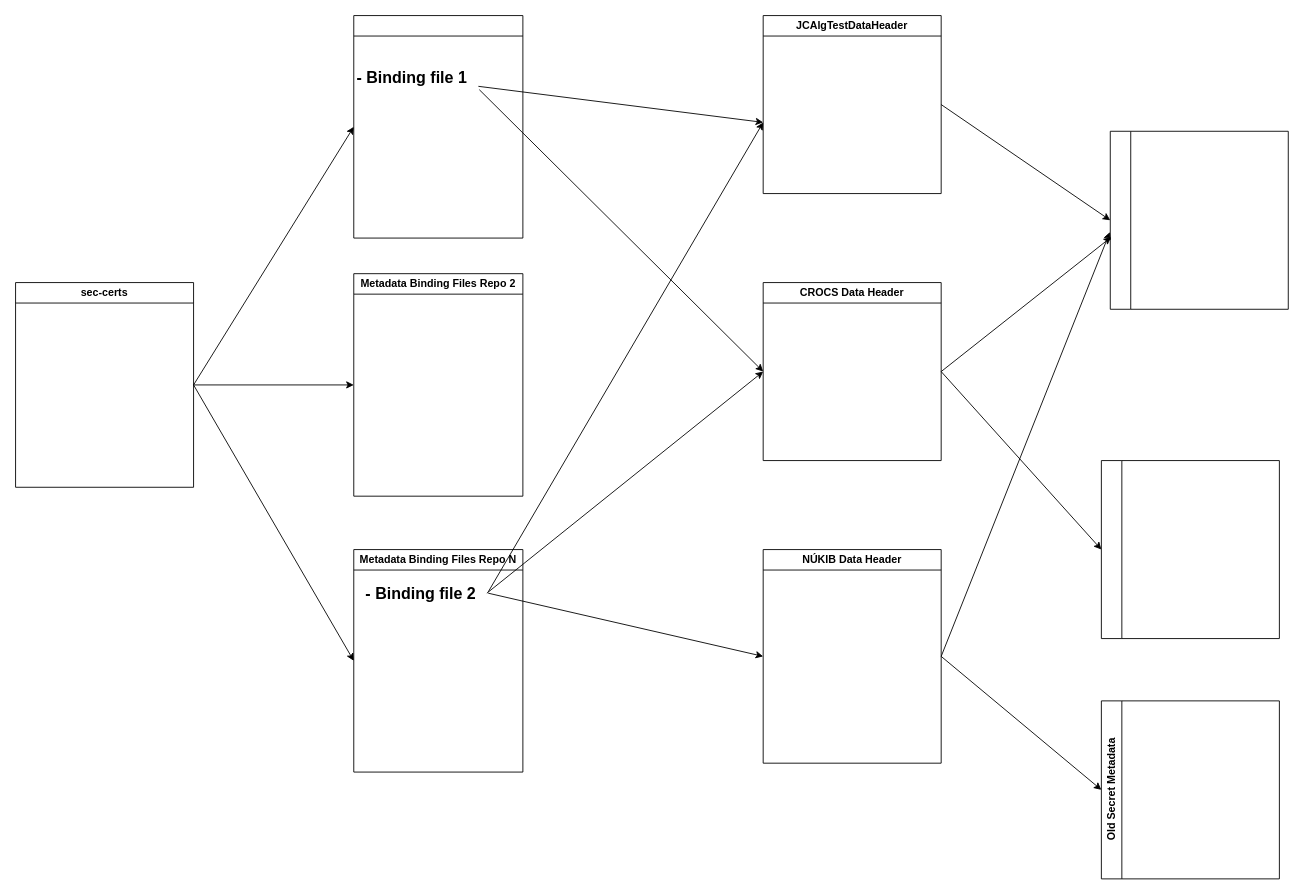
The diagram is 1304 pixels wide and 894 high, and some of its shapes have lost their labels. Here are the shapes that lost their labels. From the top down, the box of each, then its label:
(353, 15, 523, 238): Metadata Binding Files Repo 1
(1109, 130, 1288, 309): JCALGTEST for Infineon
(1100, 460, 1279, 639): ECTester for JCAPI 3.0.5
